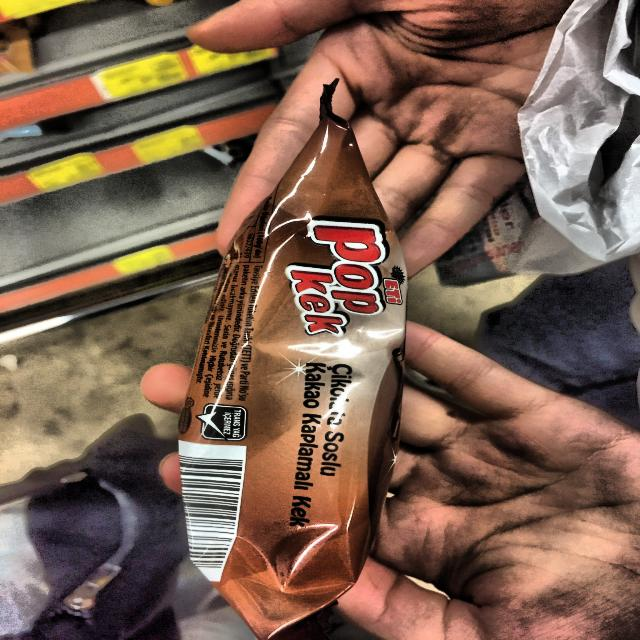Plastic: (171, 61, 449, 640)
